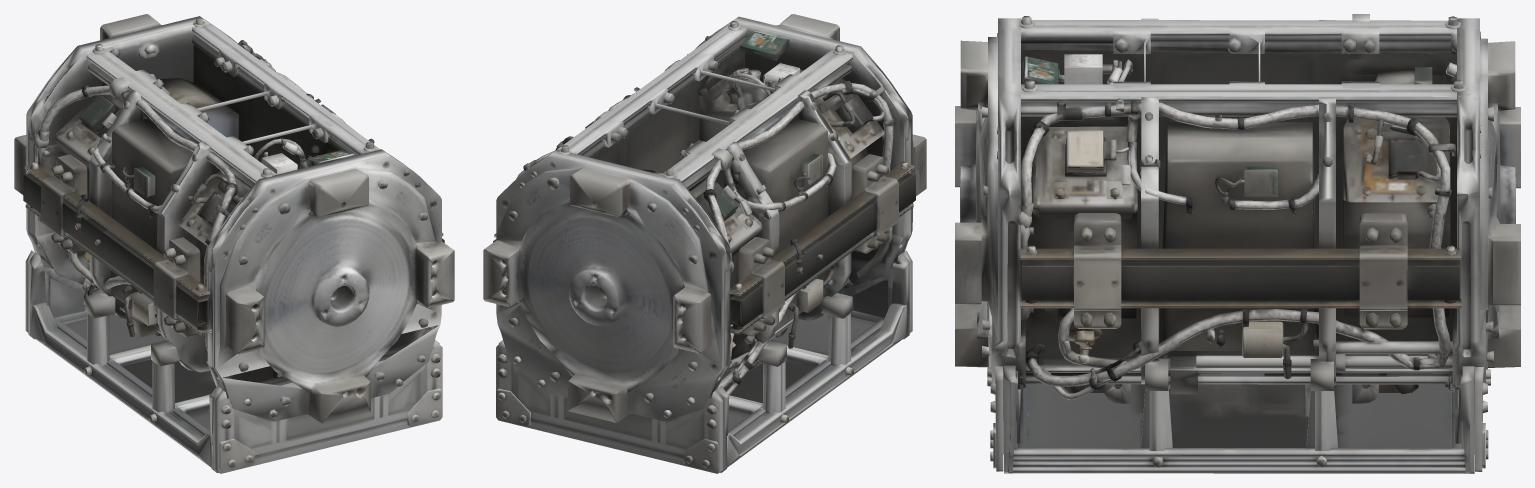
File: sat1_7.fbx
3 views of the same model, side by side, from view 1: azimuth 30°, elevation 25°; view 2: azimuth 150°, elevation 25°; view 3: azimuth 270°, elevation 25° (orthographic). The views are drawn at different scales.
Visible parts, largest first — view 1: tripo_node_9e6b3e48; view 2: tripo_node_9e6b3e48; view 3: tripo_node_9e6b3e48.
Boxes of the visible parts, bbox=[...] form: tripo_node_9e6b3e48: bbox=[14, 14, 454, 473]; tripo_node_9e6b3e48: bbox=[483, 14, 926, 473]; tripo_node_9e6b3e48: bbox=[955, 14, 1520, 473].
Size of the model in its own units: 0.6587 by 0.6948 by 0.9995.
